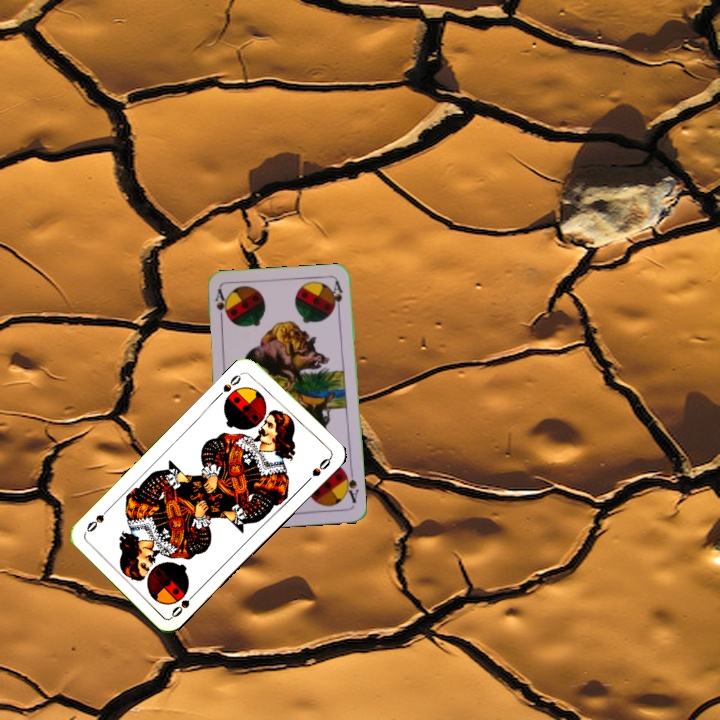SA: (340, 466, 361, 505), (211, 285, 230, 326)
SO: (167, 588, 200, 620), (219, 368, 246, 395)
